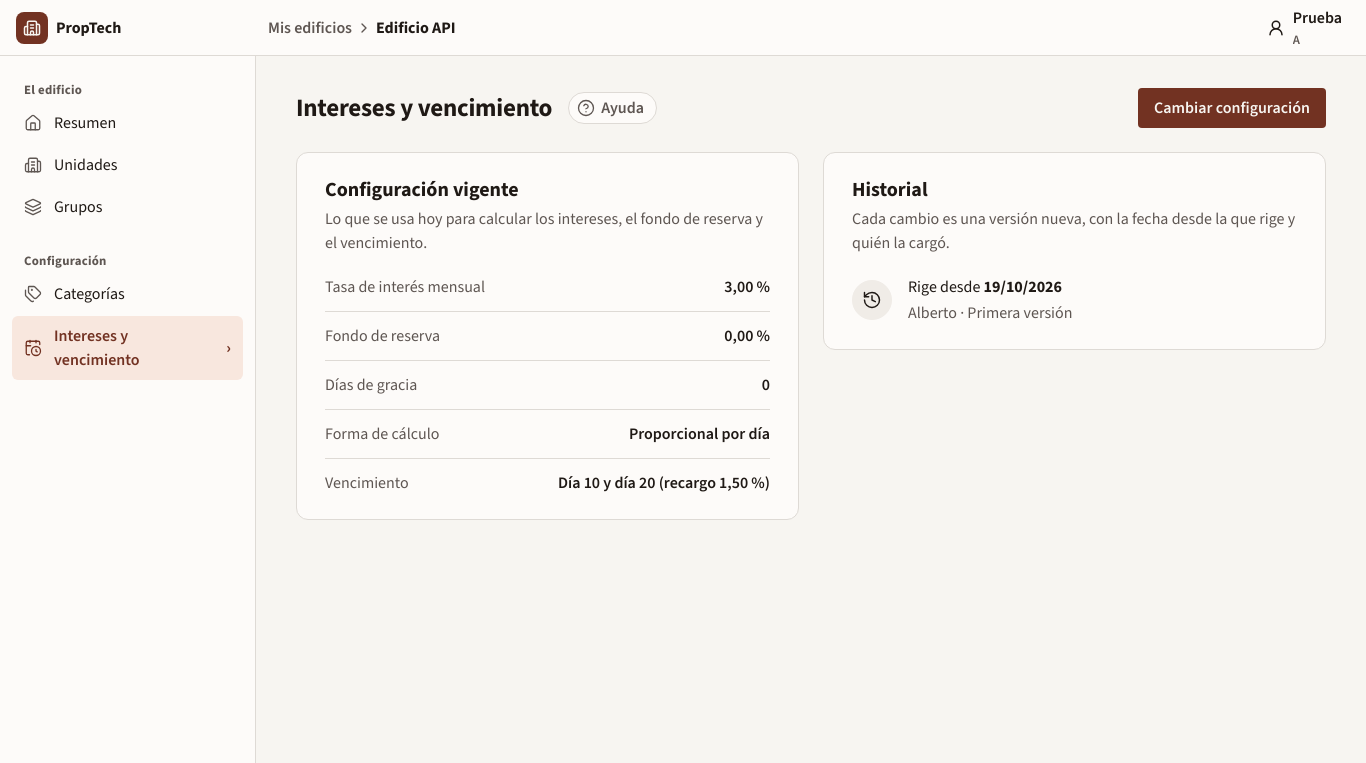
it: escenario "Día 31": con Día de vencimiento=31 fuera de rango marca sólo ese campo
Click the button "Cambiar configuración": (1232, 108) x1=1138 y1=88 x2=1326 y2=128
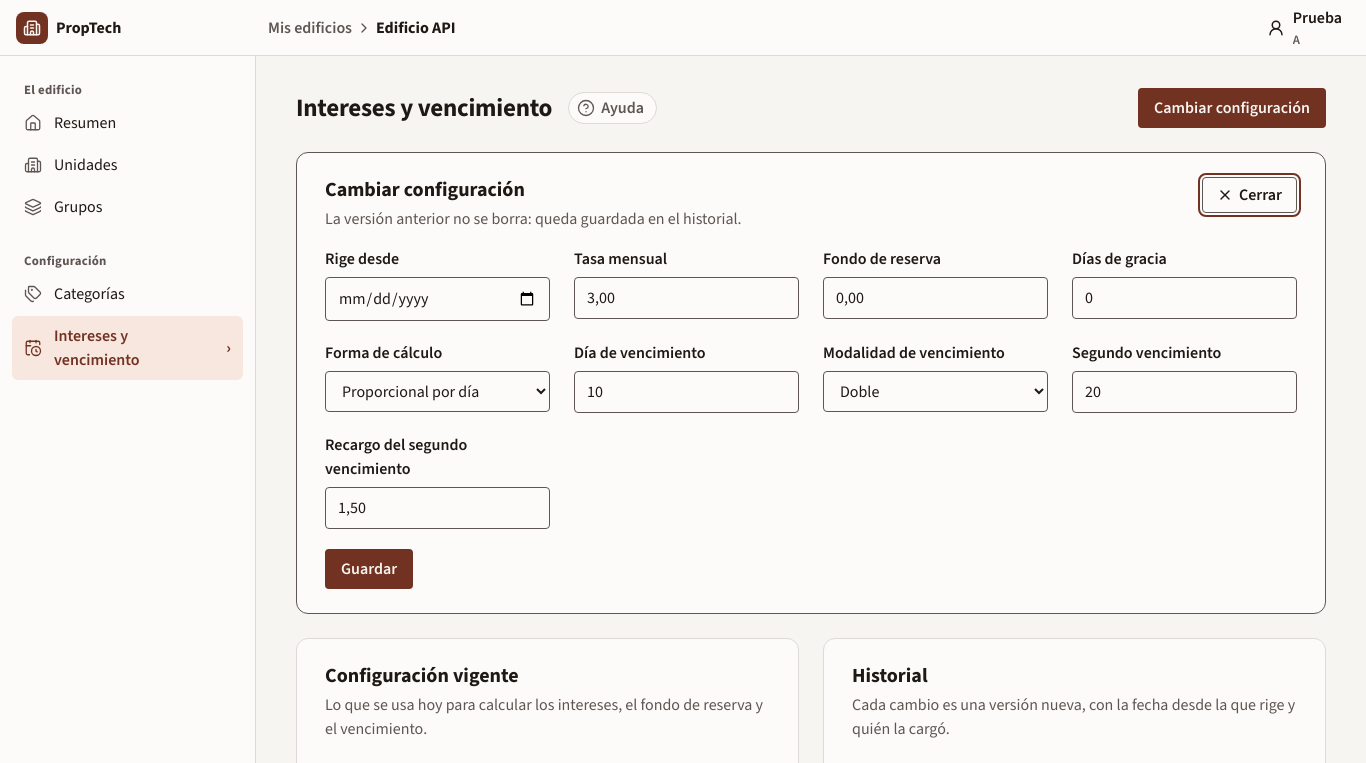
In the date field labelled "Rige desde": (438, 299) x1=325 y1=277 x2=550 y2=321, type "2099-01-01"
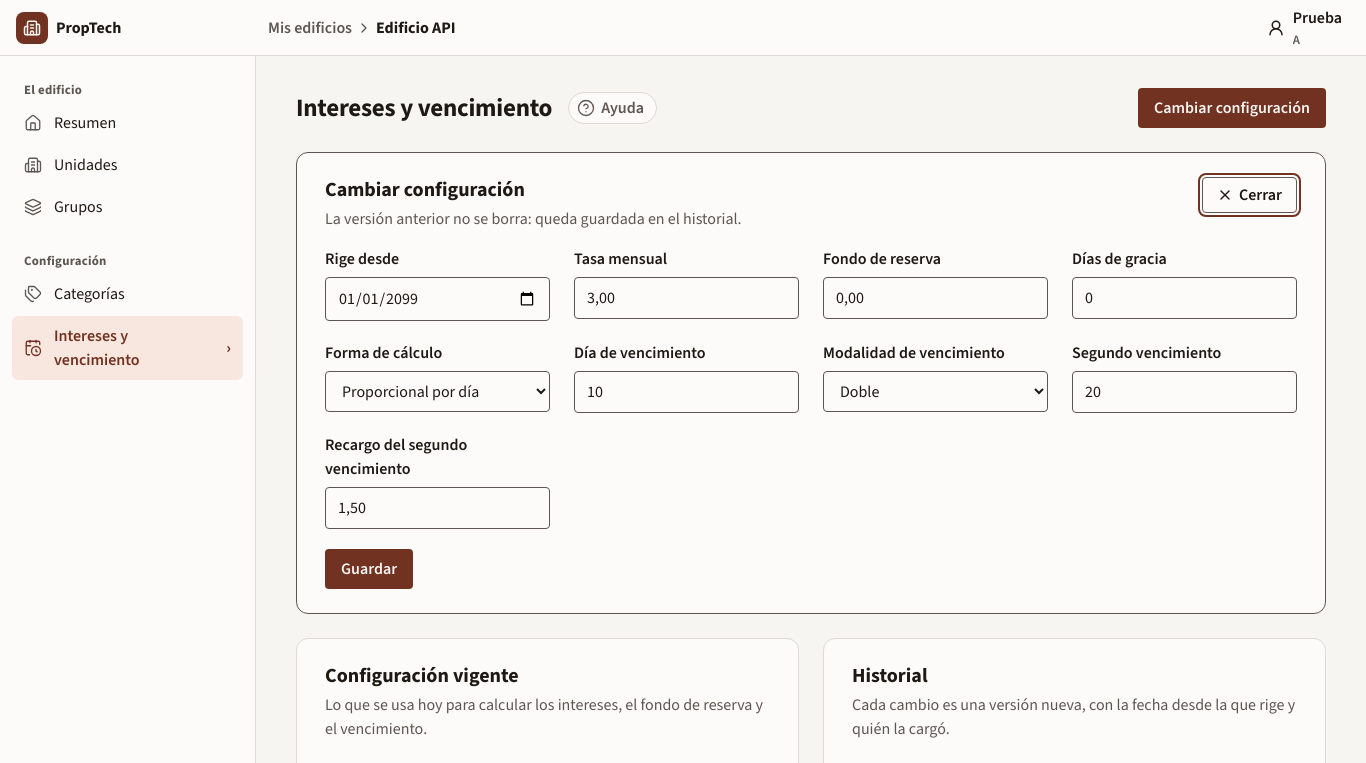
Replace the text in the number field labelled "Día de vencimiento" with "31": (686, 392) x1=574 y1=371 x2=799 y2=413
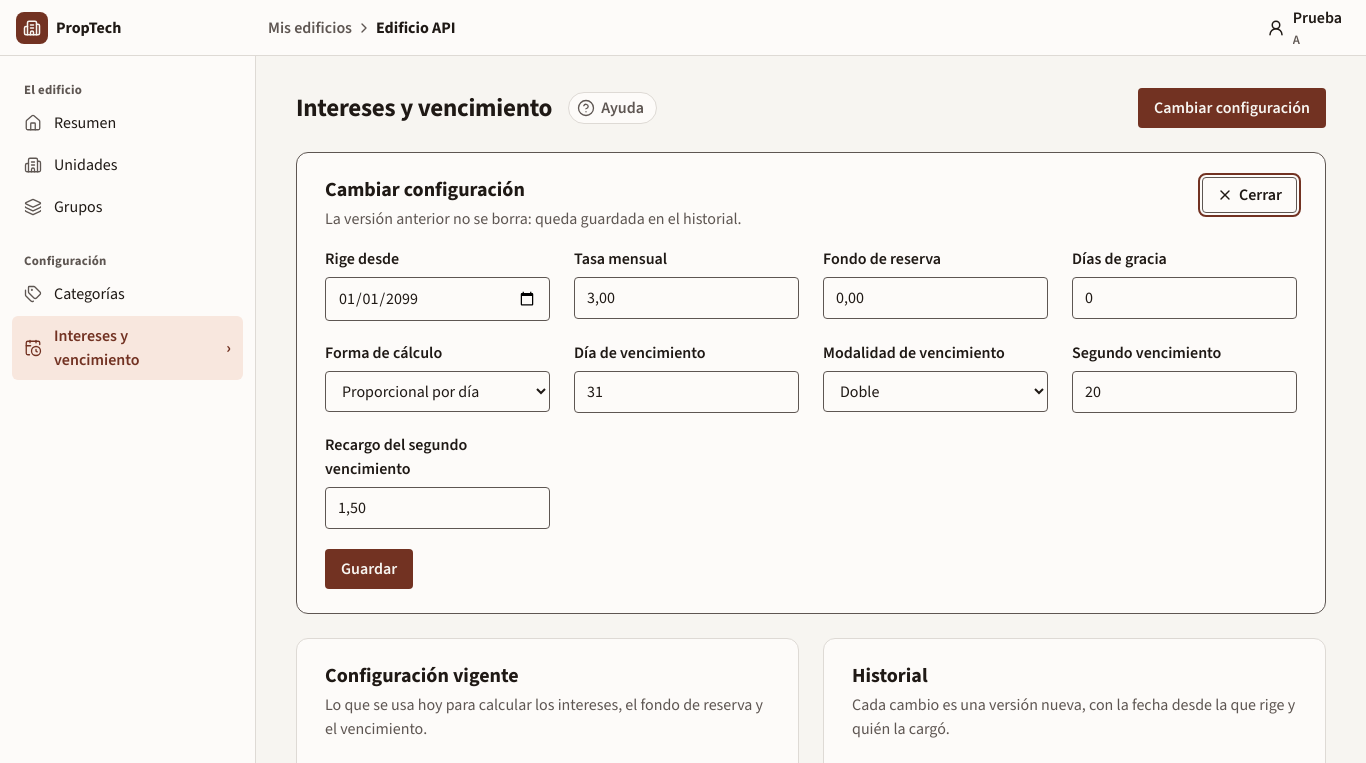
Submit the form named "Día de vencimiento", box x1=325 y1=247 x2=1297 y2=589
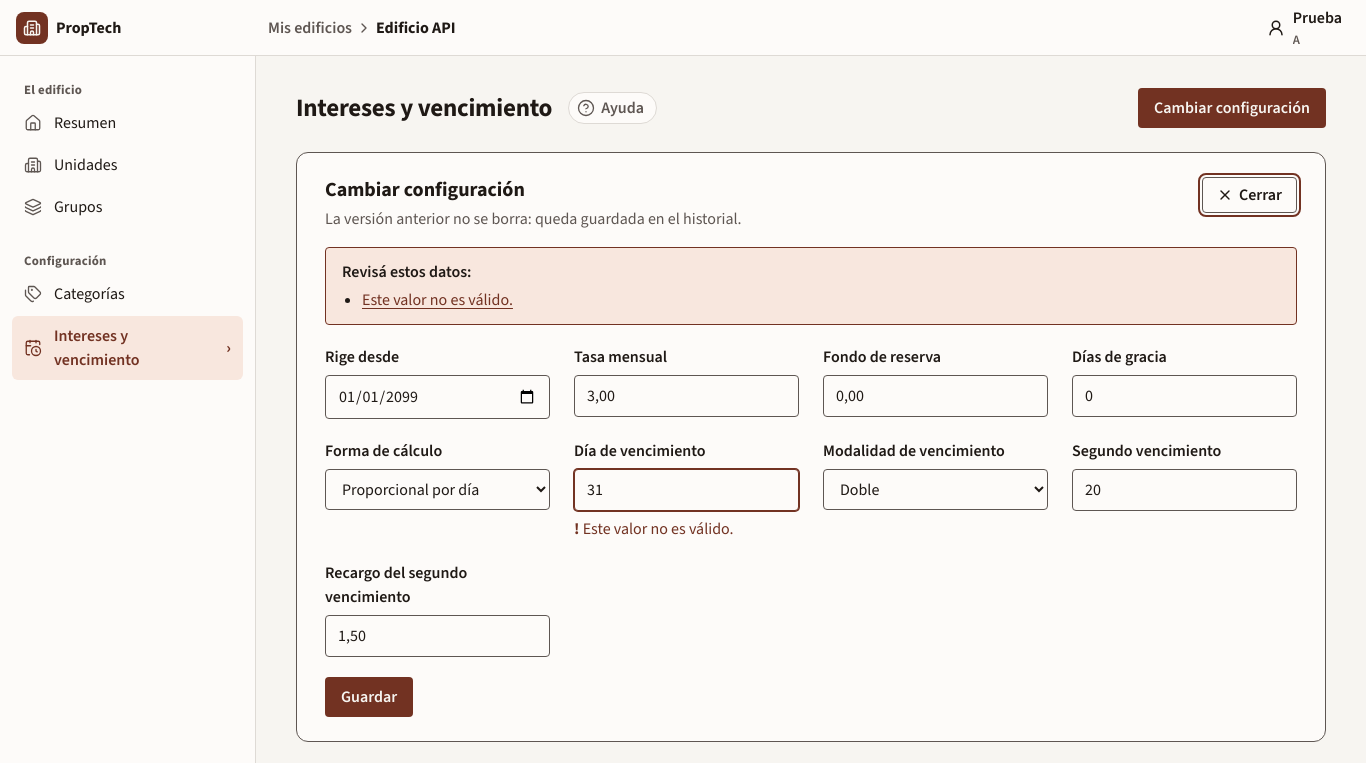
Result: the text "Este valor no es válido." is shown at x1=583 y1=518 x2=734 y2=539
